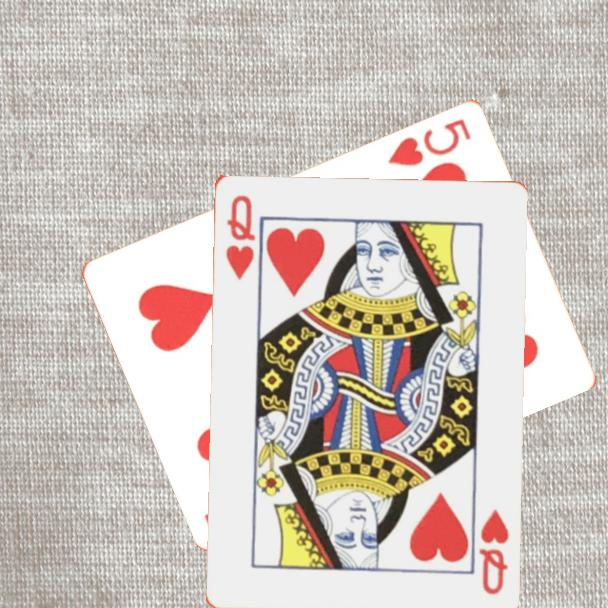h05: (384, 114, 474, 169)
h12: (475, 505, 511, 597), (222, 191, 257, 282)
